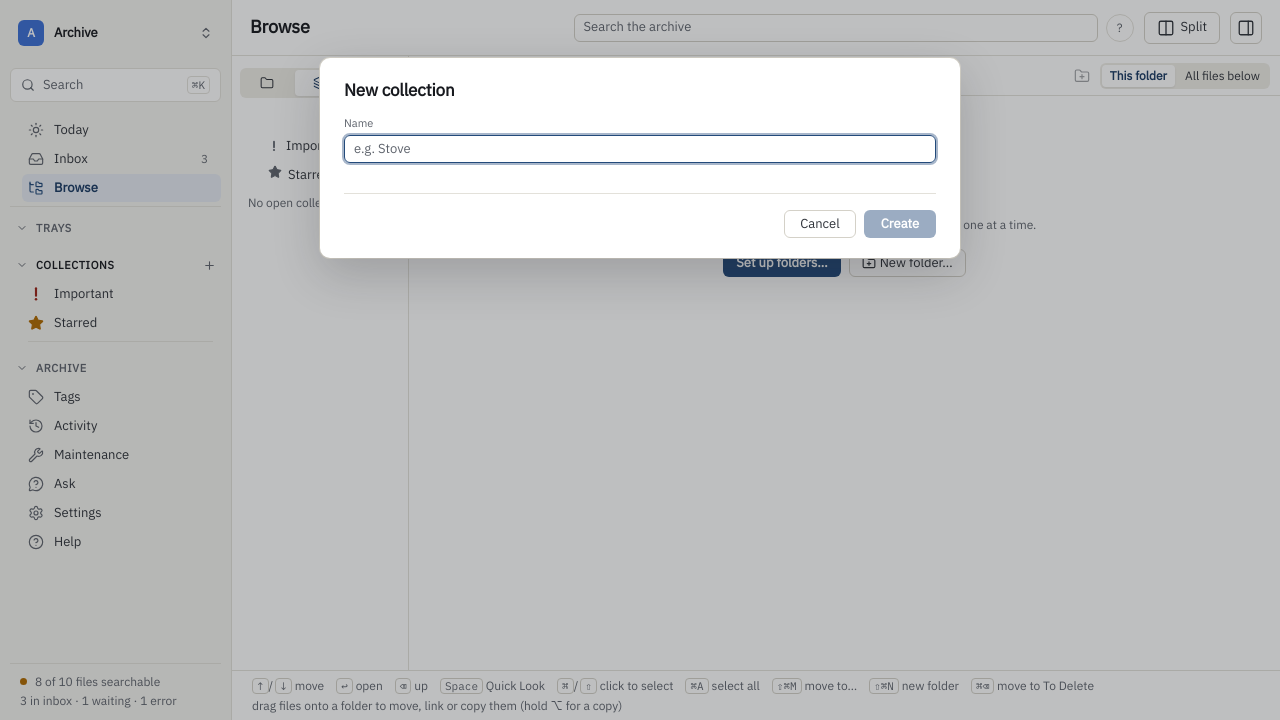
Test case: the old Collections, Tags and Starred addresses › /collections?new=1 opens the tree's New collection sheet
Check: the dialog "New collection" is shown, box [320,58,960,258]
// the tree takes the flag and drops it, so the sidebar's + works again after a Cancel
Click the button "Cancel".
click(820, 224)  # box [784,210,856,238]
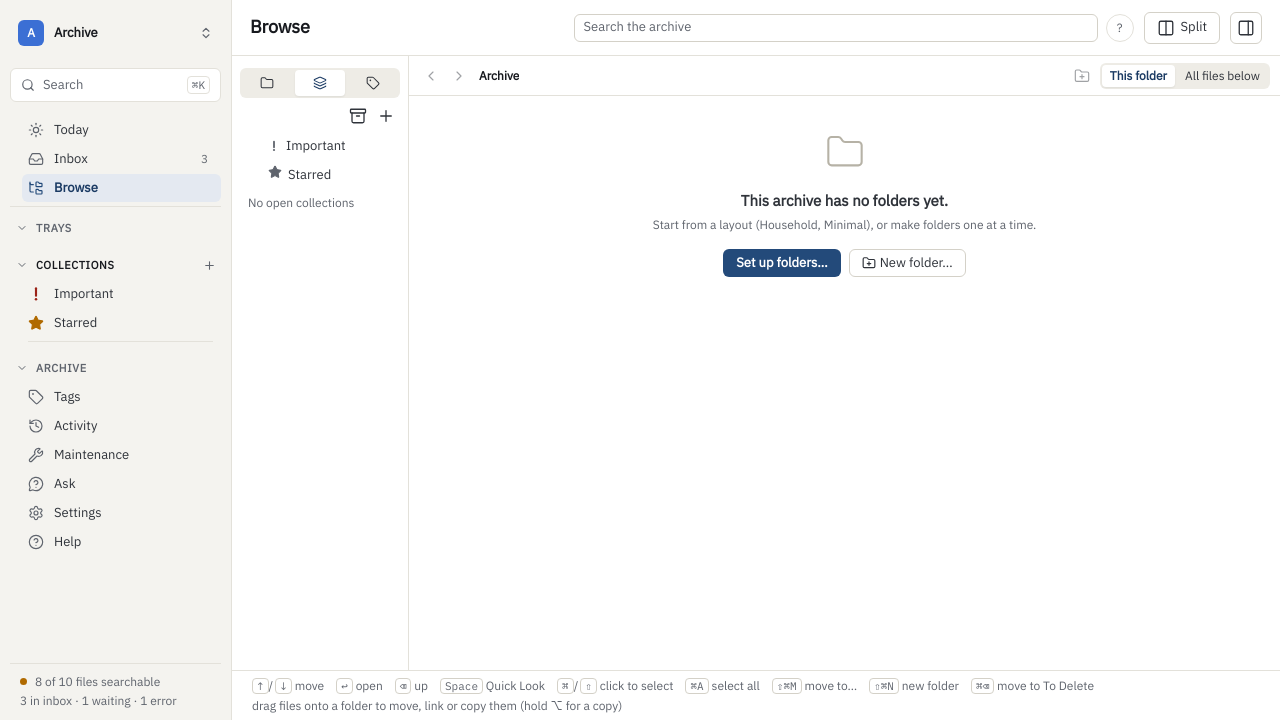
Click the link named "New collection".
click(209, 265)  # box [202,258,216,272]
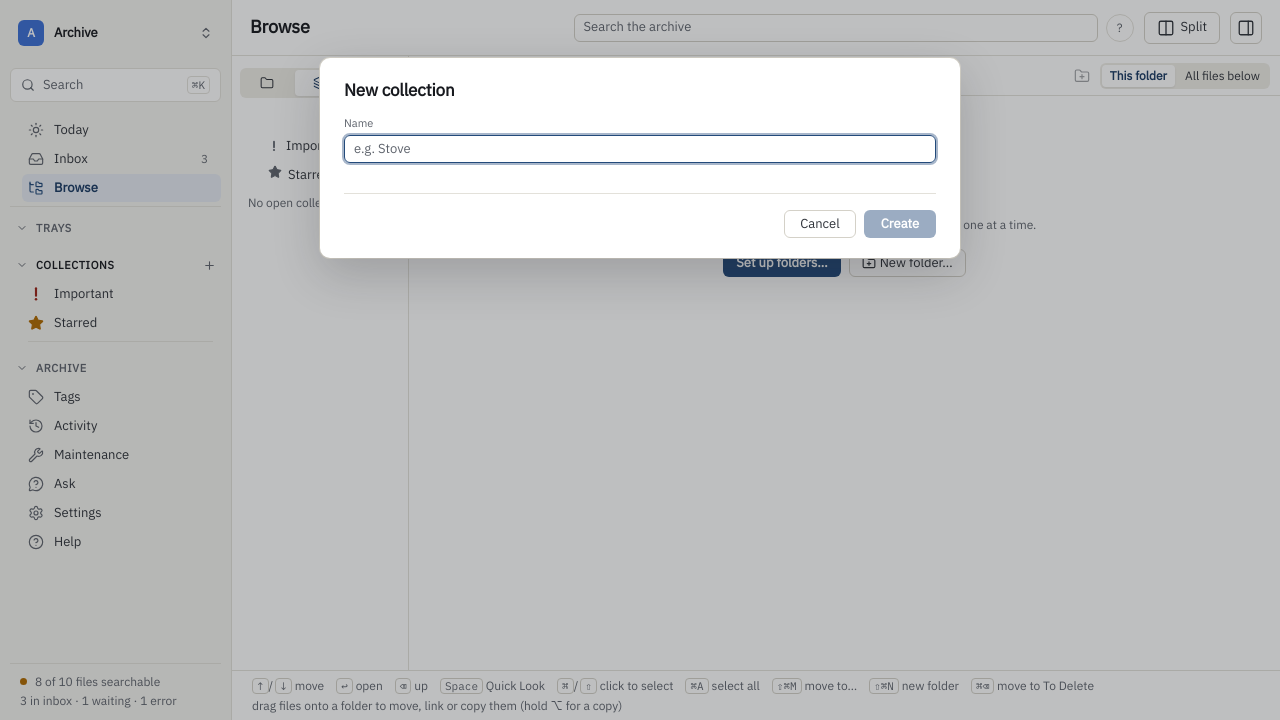
Check: the dialog "New collection" is shown, box [320,58,960,258]
